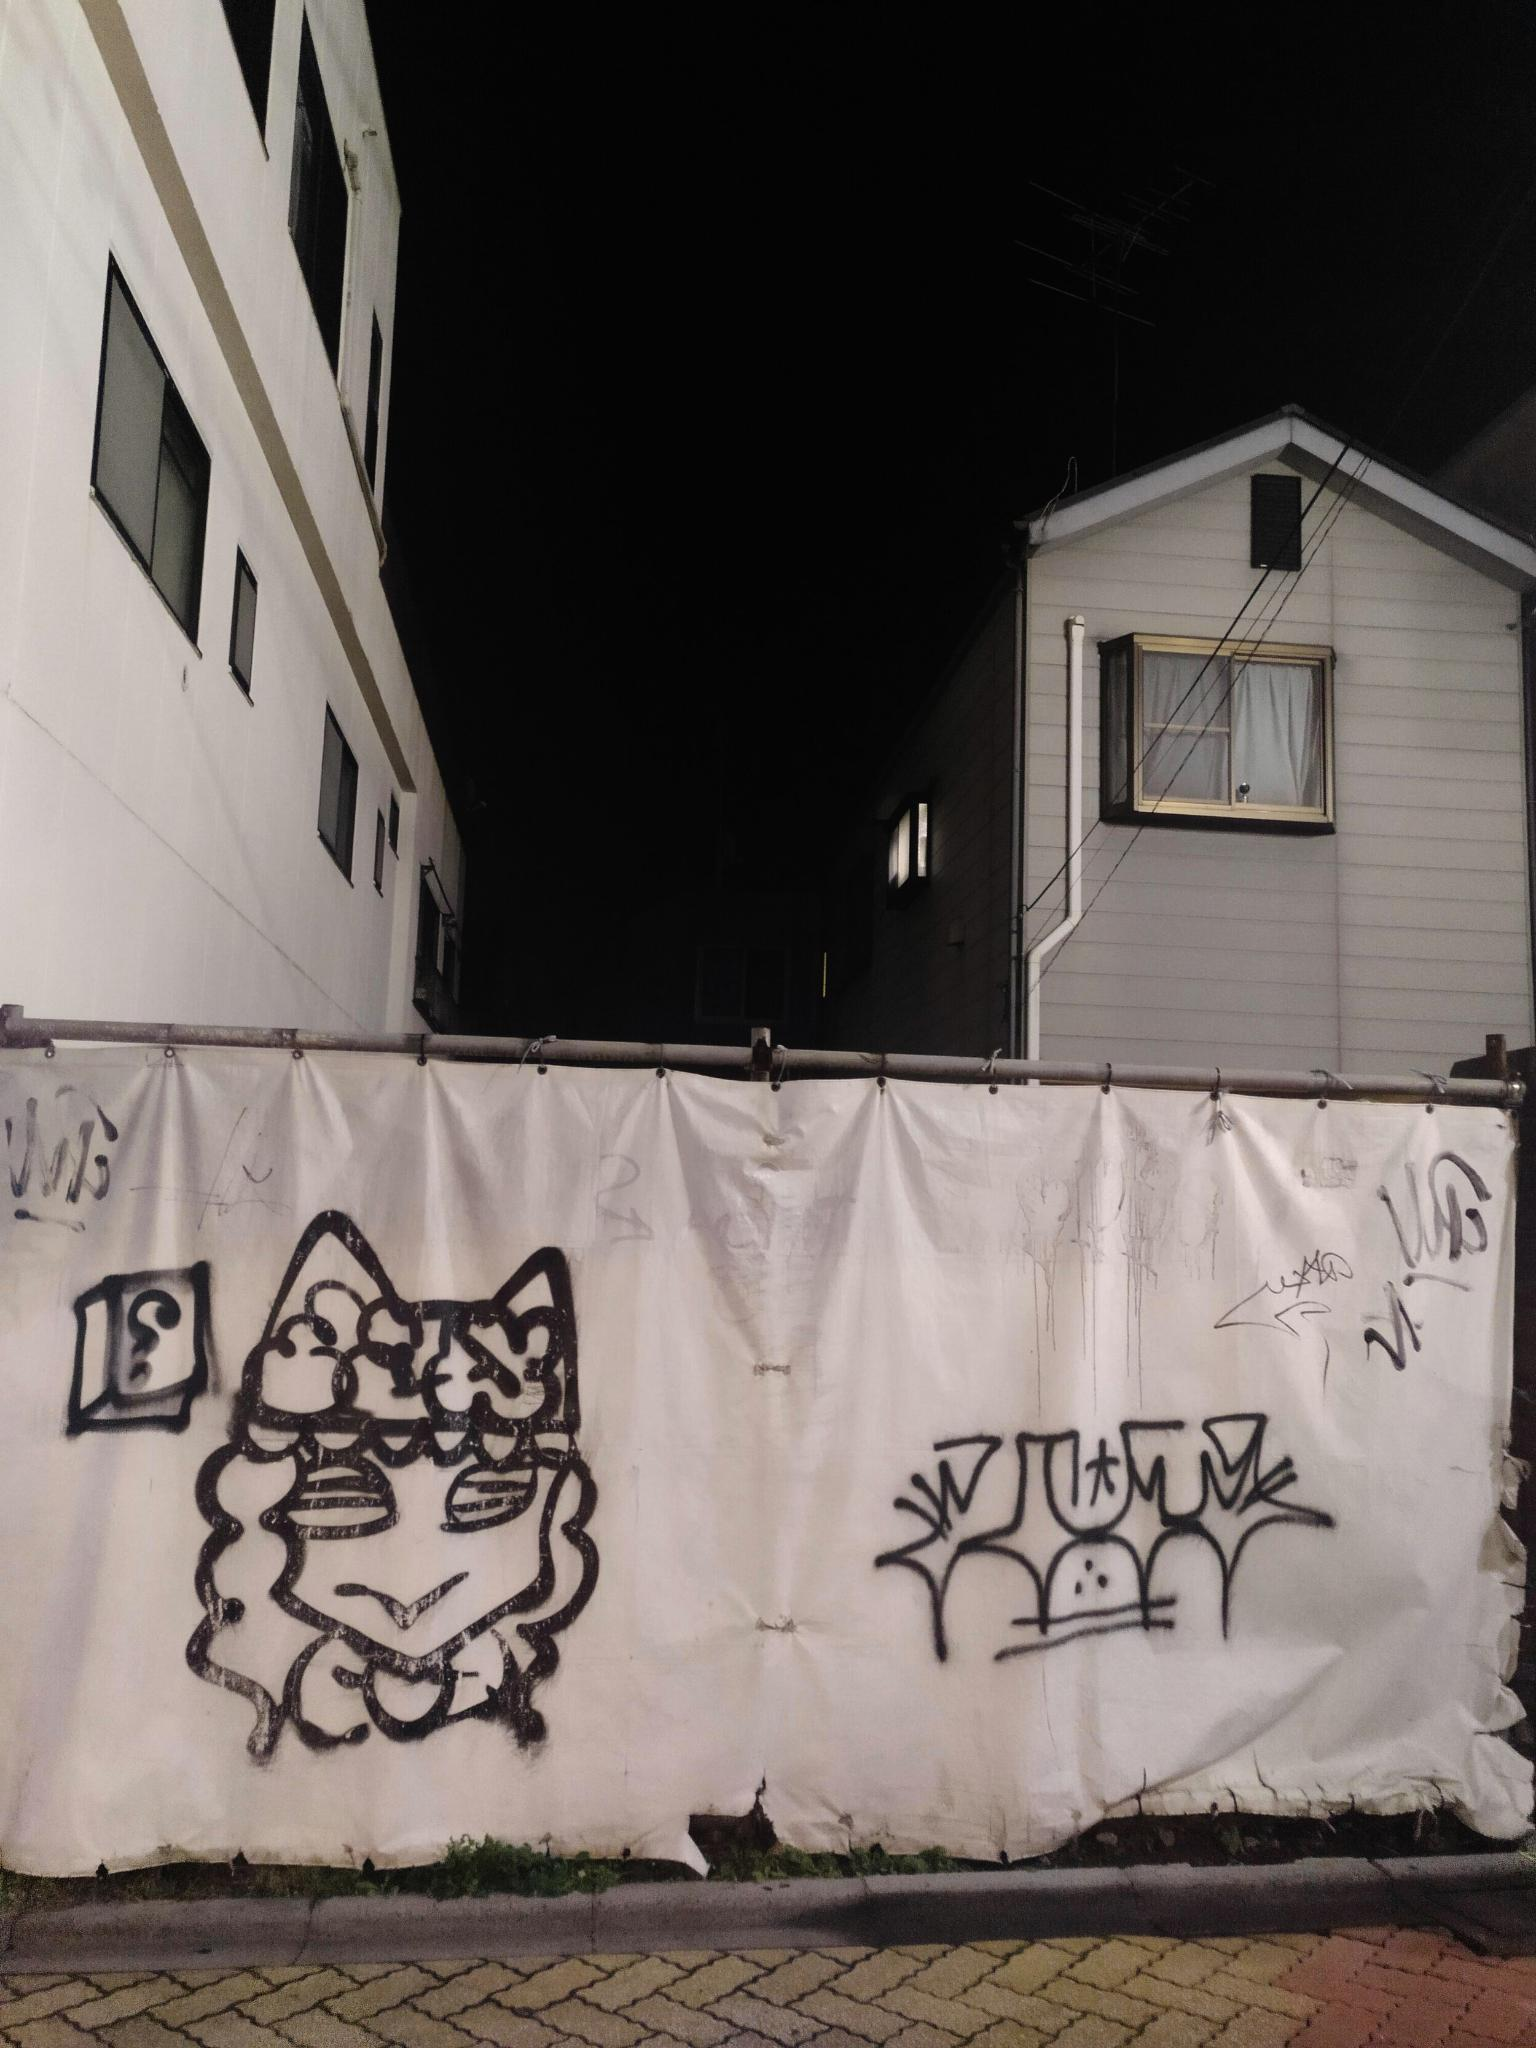graffiti: (186, 1211, 597, 1764), (874, 1413, 1336, 1661), (1365, 1151, 1492, 1371), (66, 1261, 215, 1435), (0, 1072, 123, 1230), (1215, 1248, 1354, 1340)
